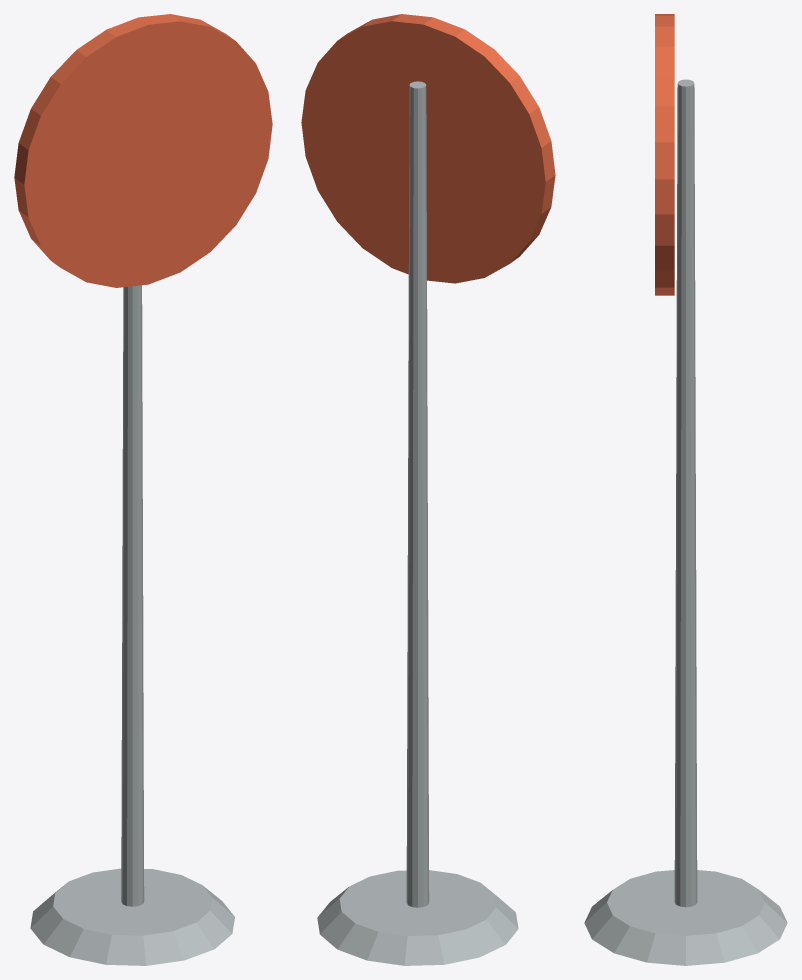
File: grand-prix-circuit-and-open-wheel-lollipop-6dcda986__15232.glb
The picture shows the model from 3 angles, left to right: view 1: azimuth 30°, elevation 25°; view 2: azimuth 150°, elevation 25°; view 3: azimuth 270°, elevation 25°; orthographic projection.
Parts seen in each view (by area): view 1: lollipop; view 2: lollipop; view 3: lollipop.
Boxes of the visible parts, x1,y1,x2,y2 form: lollipop: (14,14,272,965); lollipop: (301,14,555,965); lollipop: (584,14,787,965).
Size of the model in its own units: 0.5 by 1.75 by 0.36.
